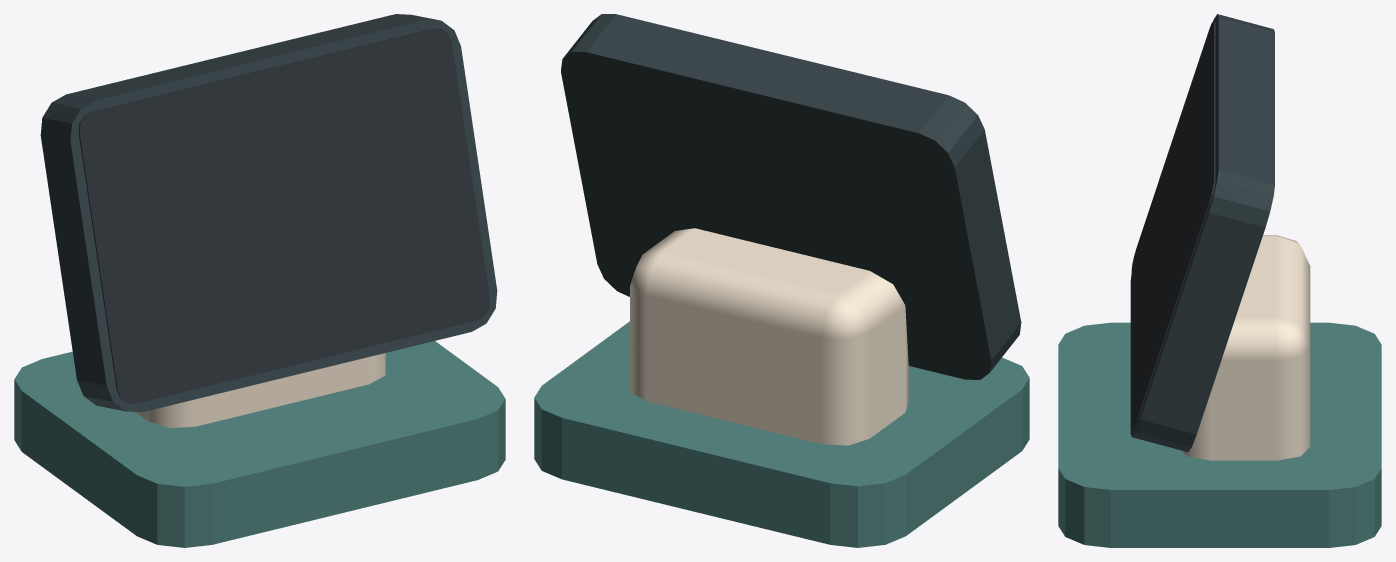
The model's file is kit_saas_terminal_v1.glb.
3 views of the same model, side by side, from view 1: azimuth 30°, elevation 25°; view 2: azimuth 150°, elevation 25°; view 3: azimuth 270°, elevation 25° (orthographic). The views are drawn at different scales.
Parts seen in each view (by area): view 1: screen, body; view 2: body; view 3: body, screen.
Boxes of the visible parts, x1,y1,x2,y2 form: screen: [78, 28, 489, 403]; body: [14, 14, 505, 547]; body: [534, 14, 1029, 547]; body: [1058, 14, 1381, 547]; screen: [1131, 21, 1215, 429].
Bounding box in the file's own units: 0.45 × 0.43 × 0.34.
